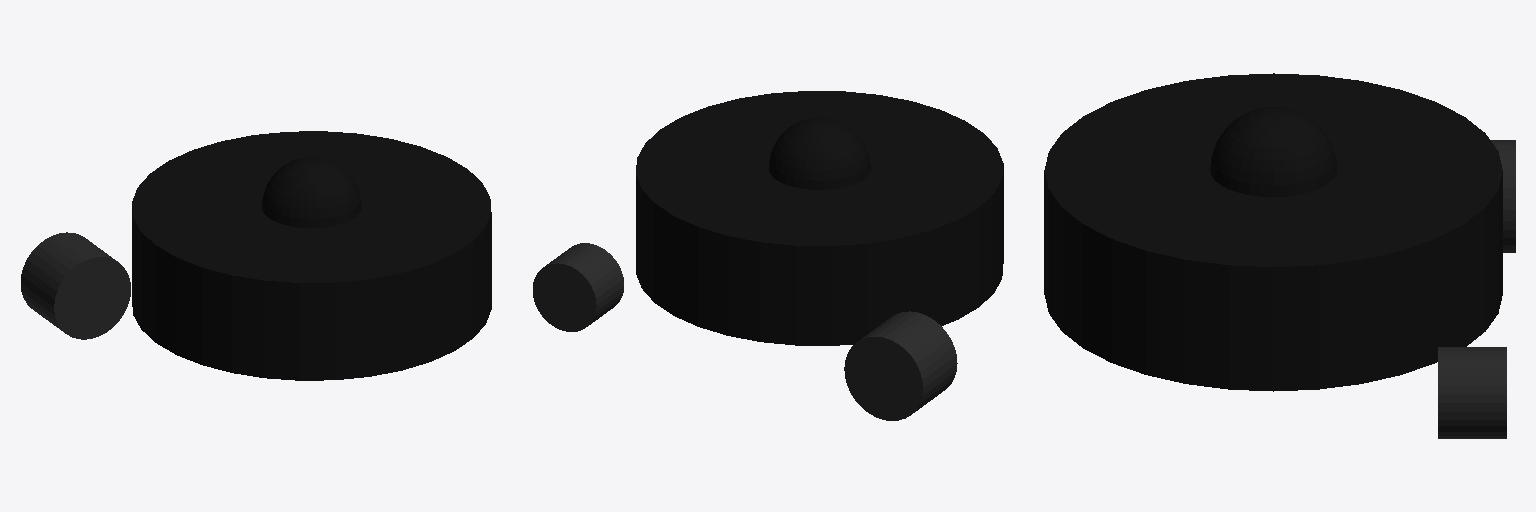
URDF robot description (evolved_robot):
<?xml version="1.0"?>
<robot name="evolved_robot">
  <material name="metal">
    <color rgba="0.7 0.7 0.7 1.0"/>
  </material>
  <material name="plastic">
    <color rgba="0.3 0.3 0.9 1.0"/>
  </material>
  <material name="rubber">
    <color rgba="0.1 0.1 0.1 1.0"/>
  </material>
  <material name="red">
    <color rgba="1.0 0.0 0.0 1.0"/>
  </material>
  <material name="wheel_material">
    <color rgba="0.2 0.2 0.2 1.0"/>
  </material>
  <link name="base_link">
    <visual>
      <geometry><cylinder radius="0.16489888803457808" length="0.09865959535301638"/></geometry>
      <material name="rubber"/>
    </visual>
    <collision>
      <geometry><cylinder radius="0.16489888803457808" length="0.09865959535301638"/></geometry>
    </collision>
    <inertial>
      <mass value="5.0"/>
      <inertia ixx="0.07609053798361824" ixy="0" ixz="0" 
               iyy="0.07609053798361824" iyz="0" 
               izz="0.13595821637520158"/>
    </inertial>
  </link>
  <link name="link1">
    <visual>
      <geometry>
        <cylinder radius="0.033130206445969104" length="0.04984985321586795"/>
      </geometry>
      <material name="wheel_material"/>
    </visual>
    <collision>
      <geometry>
        <cylinder radius="0.033130206445969104" length="0.04984985321586795"/>
      </geometry>
    </collision>
    <inertial>
      <mass value="1.0"/>
      <inertia ixx="0.0004814866335917648" ixy="0" ixz="0" 
               iyy="0.0004814866335917648" iyz="0" 
               izz="0.0005488052895762664"/>
    </inertial>
  </link>
  <joint name="joint1" type="continuous">
    <parent link="base_link"/>
    <child link="link1"/>
    <origin xyz="0.1666243397860052 0.14317343628315096 -0.04932979767650819" rpy="1.5708 0 0"/>
    <axis xyz="0 1 0"/>
    <dynamics damping="0.5105284351703017" friction="0.1"/>
  </joint>
  <link name="link2">
    <visual>
      <geometry><sphere radius="0.04579333266238332"/></geometry>
      <material name="rubber"/>
    </visual>
    <collision>
      <geometry><sphere radius="0.04579333266238332"/></geometry>
    </collision>
    <inertial>
      <mass value="0.5"/>
      <inertia ixx="0.0008388117265310812" ixy="0" ixz="0" 
               iyy="0.0008388117265310812" iyz="0" 
               izz="0.0008388117265310812"/>
    </inertial>
  </link>
  <joint name="joint2" type="floating">
    <parent link="base_link"/>
    <child link="link2"/>
    <origin xyz="0 0 0.04932979767650819" rpy="0 0 0"/>
    <axis xyz="0.42629265186687865 -0.6990599771541977 -0.5740990535660871"/>
    <dynamics damping="0.33829878905053207" friction="0.1"/>
  </joint>
  <link name="link3">
    <visual>
      <geometry>
        <cylinder radius="0.04073245815776285" length="0.061566423299363626"/>
      </geometry>
      <material name="wheel_material"/>
    </visual>
    <collision>
      <geometry>
        <cylinder radius="0.04073245815776285" length="0.061566423299363626"/>
      </geometry>
    </collision>
    <inertial>
      <mass value="1.0"/>
      <inertia ixx="0.0007306519933831774" ixy="0" ixz="0" 
               iyy="0.0007306519933831774" iyz="0" 
               izz="0.0008295665737869507"/>
    </inertial>
  </link>
  <joint name="joint3" type="continuous">
    <parent link="base_link"/>
    <child link="link3"/>
    <origin xyz="-0.1666243397860052 0.14317343628315096 -0.04932979767650819" rpy="1.5708 0 0"/>
    <axis xyz="0 1 0"/>
    <dynamics damping="0.902491799891723" friction="0.1"/>
  </joint>
</robot>

--- What the picture shows (computed from the rendered views, not written in the file) ---
3 views of the same robot in one strip: view 1: azimuth 30°, elevation 25°; view 2: azimuth 150°, elevation 25°; view 3: azimuth 270°, elevation 25° (orthographic).
Model evolved_robot with 4 links and 3 joints (2 continuous, 1 floating), rooted at base_link, posed all joints at 0.
Links seen in each view (by area): view 1: base_link, link3, link2; view 2: base_link, link3, link1, link2; view 3: base_link, link2, link1, link3.
Link boxes in pixels (<box>): base_link: <box>132,131,491,380</box>; link3: <box>21,232,130,339</box>; link2: <box>262,157,361,227</box>; base_link: <box>636,91,1003,345</box>; link3: <box>844,311,957,420</box>; link1: <box>533,243,623,331</box>; link2: <box>769,117,870,189</box>; base_link: <box>1044,73,1502,391</box>; link2: <box>1210,107,1336,196</box>; link1: <box>1438,347,1506,438</box>; link3: <box>1491,140,1515,252</box>.
Size in the robot's own frame: 0.4071 by 0.3389 by 0.1852 metres.
Geometry: primitives only (box / cylinder / sphere), no mesh files.